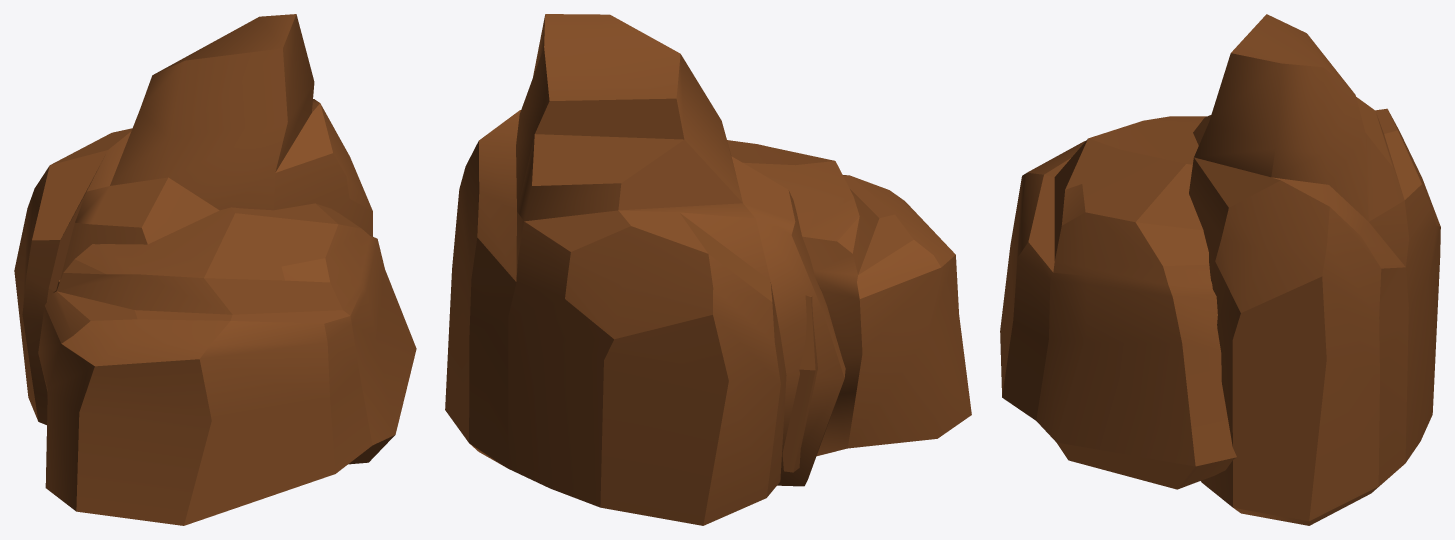
The model's file is Rock_Large_2.gltf.
3 renders of one model, left to right at view 1: azimuth 30°, elevation 25°; view 2: azimuth 150°, elevation 25°; view 3: azimuth 270°, elevation 25°, orthographic. The views are drawn at different scales.
Parts seen in each view (by area): view 1: Rock_Large_2; view 2: Rock_Large_2; view 3: Rock_Large_2.
Part boxes in pixels (x1,y1,x2,y2): Rock_Large_2: (14, 14, 416, 525); Rock_Large_2: (445, 14, 971, 525); Rock_Large_2: (1000, 14, 1440, 525).
Size of the model in its own units: 8.54 by 8.21 by 7.62.
1 material, 1 textured.
